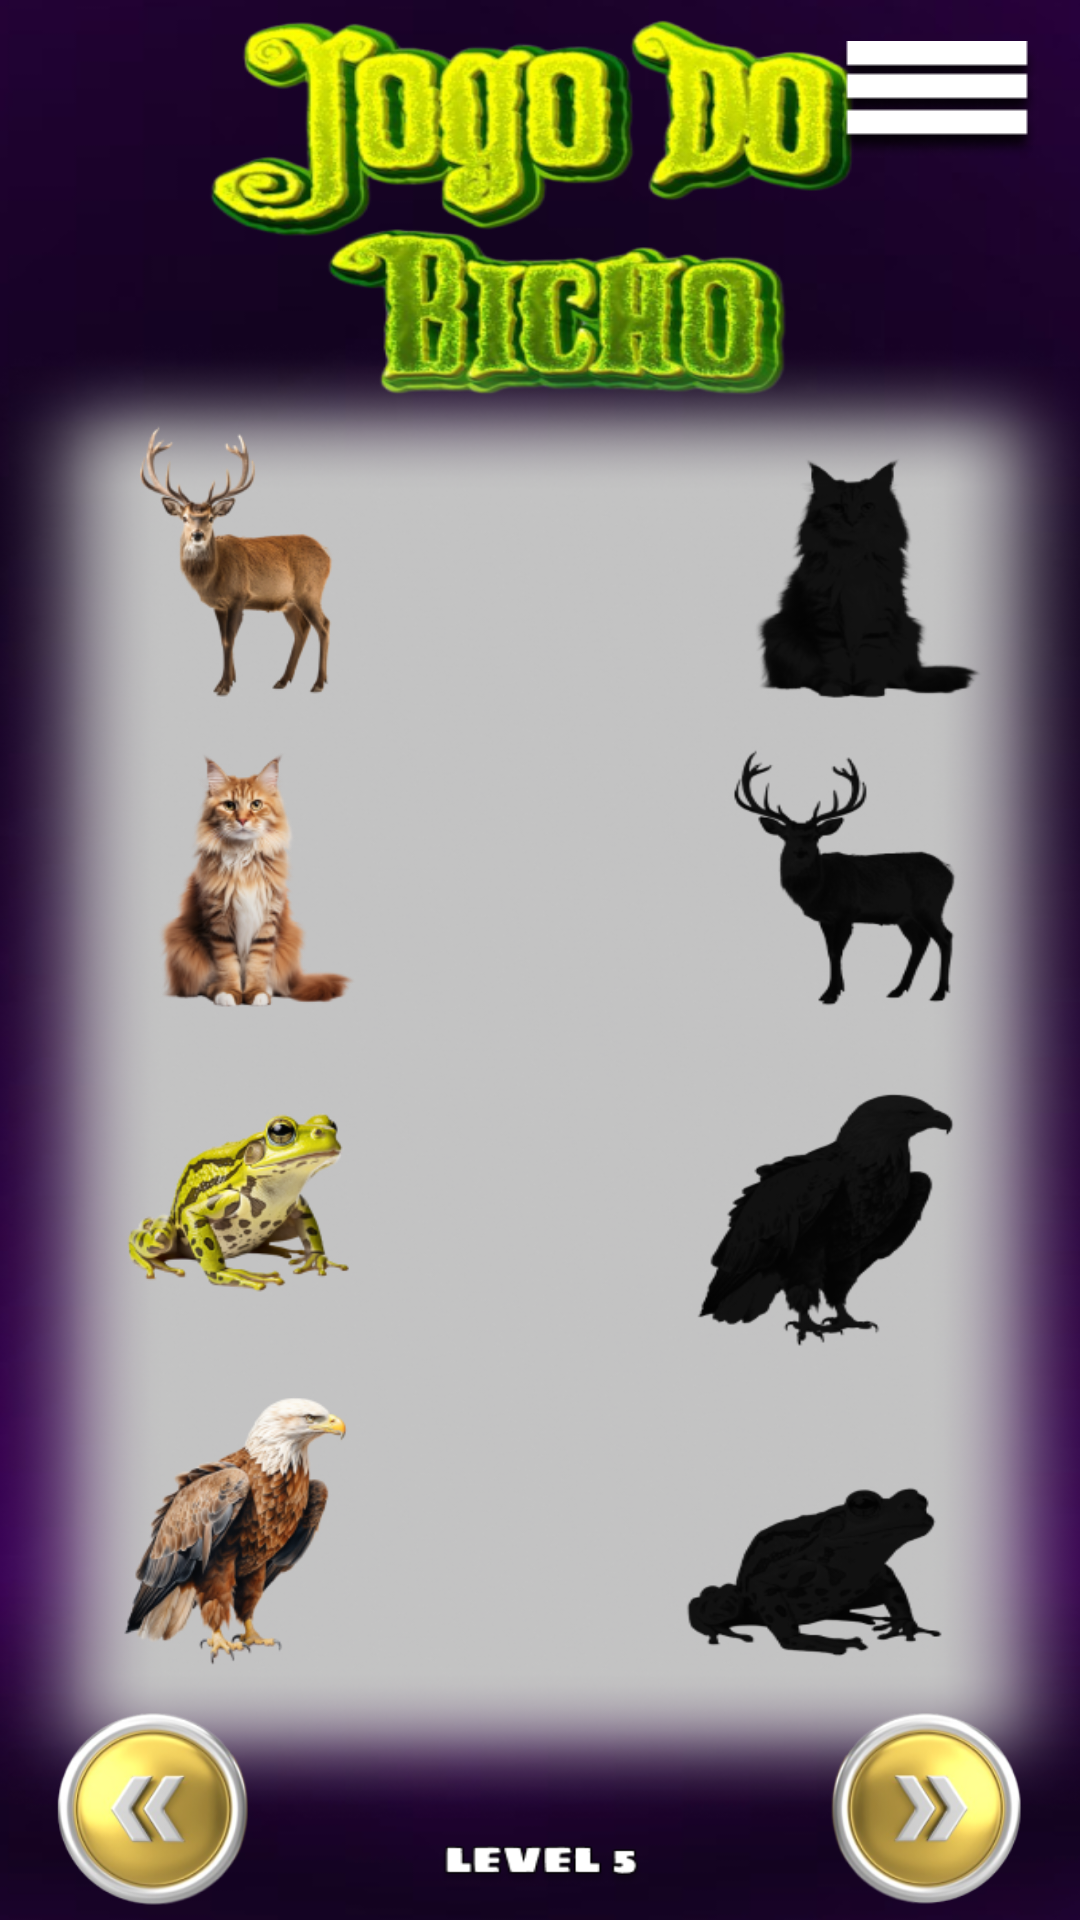

Named icons in this screenshot (1080*1920) and their centers, [x,y]:
back tap: [151,1809]
next tap: [928,1809]
